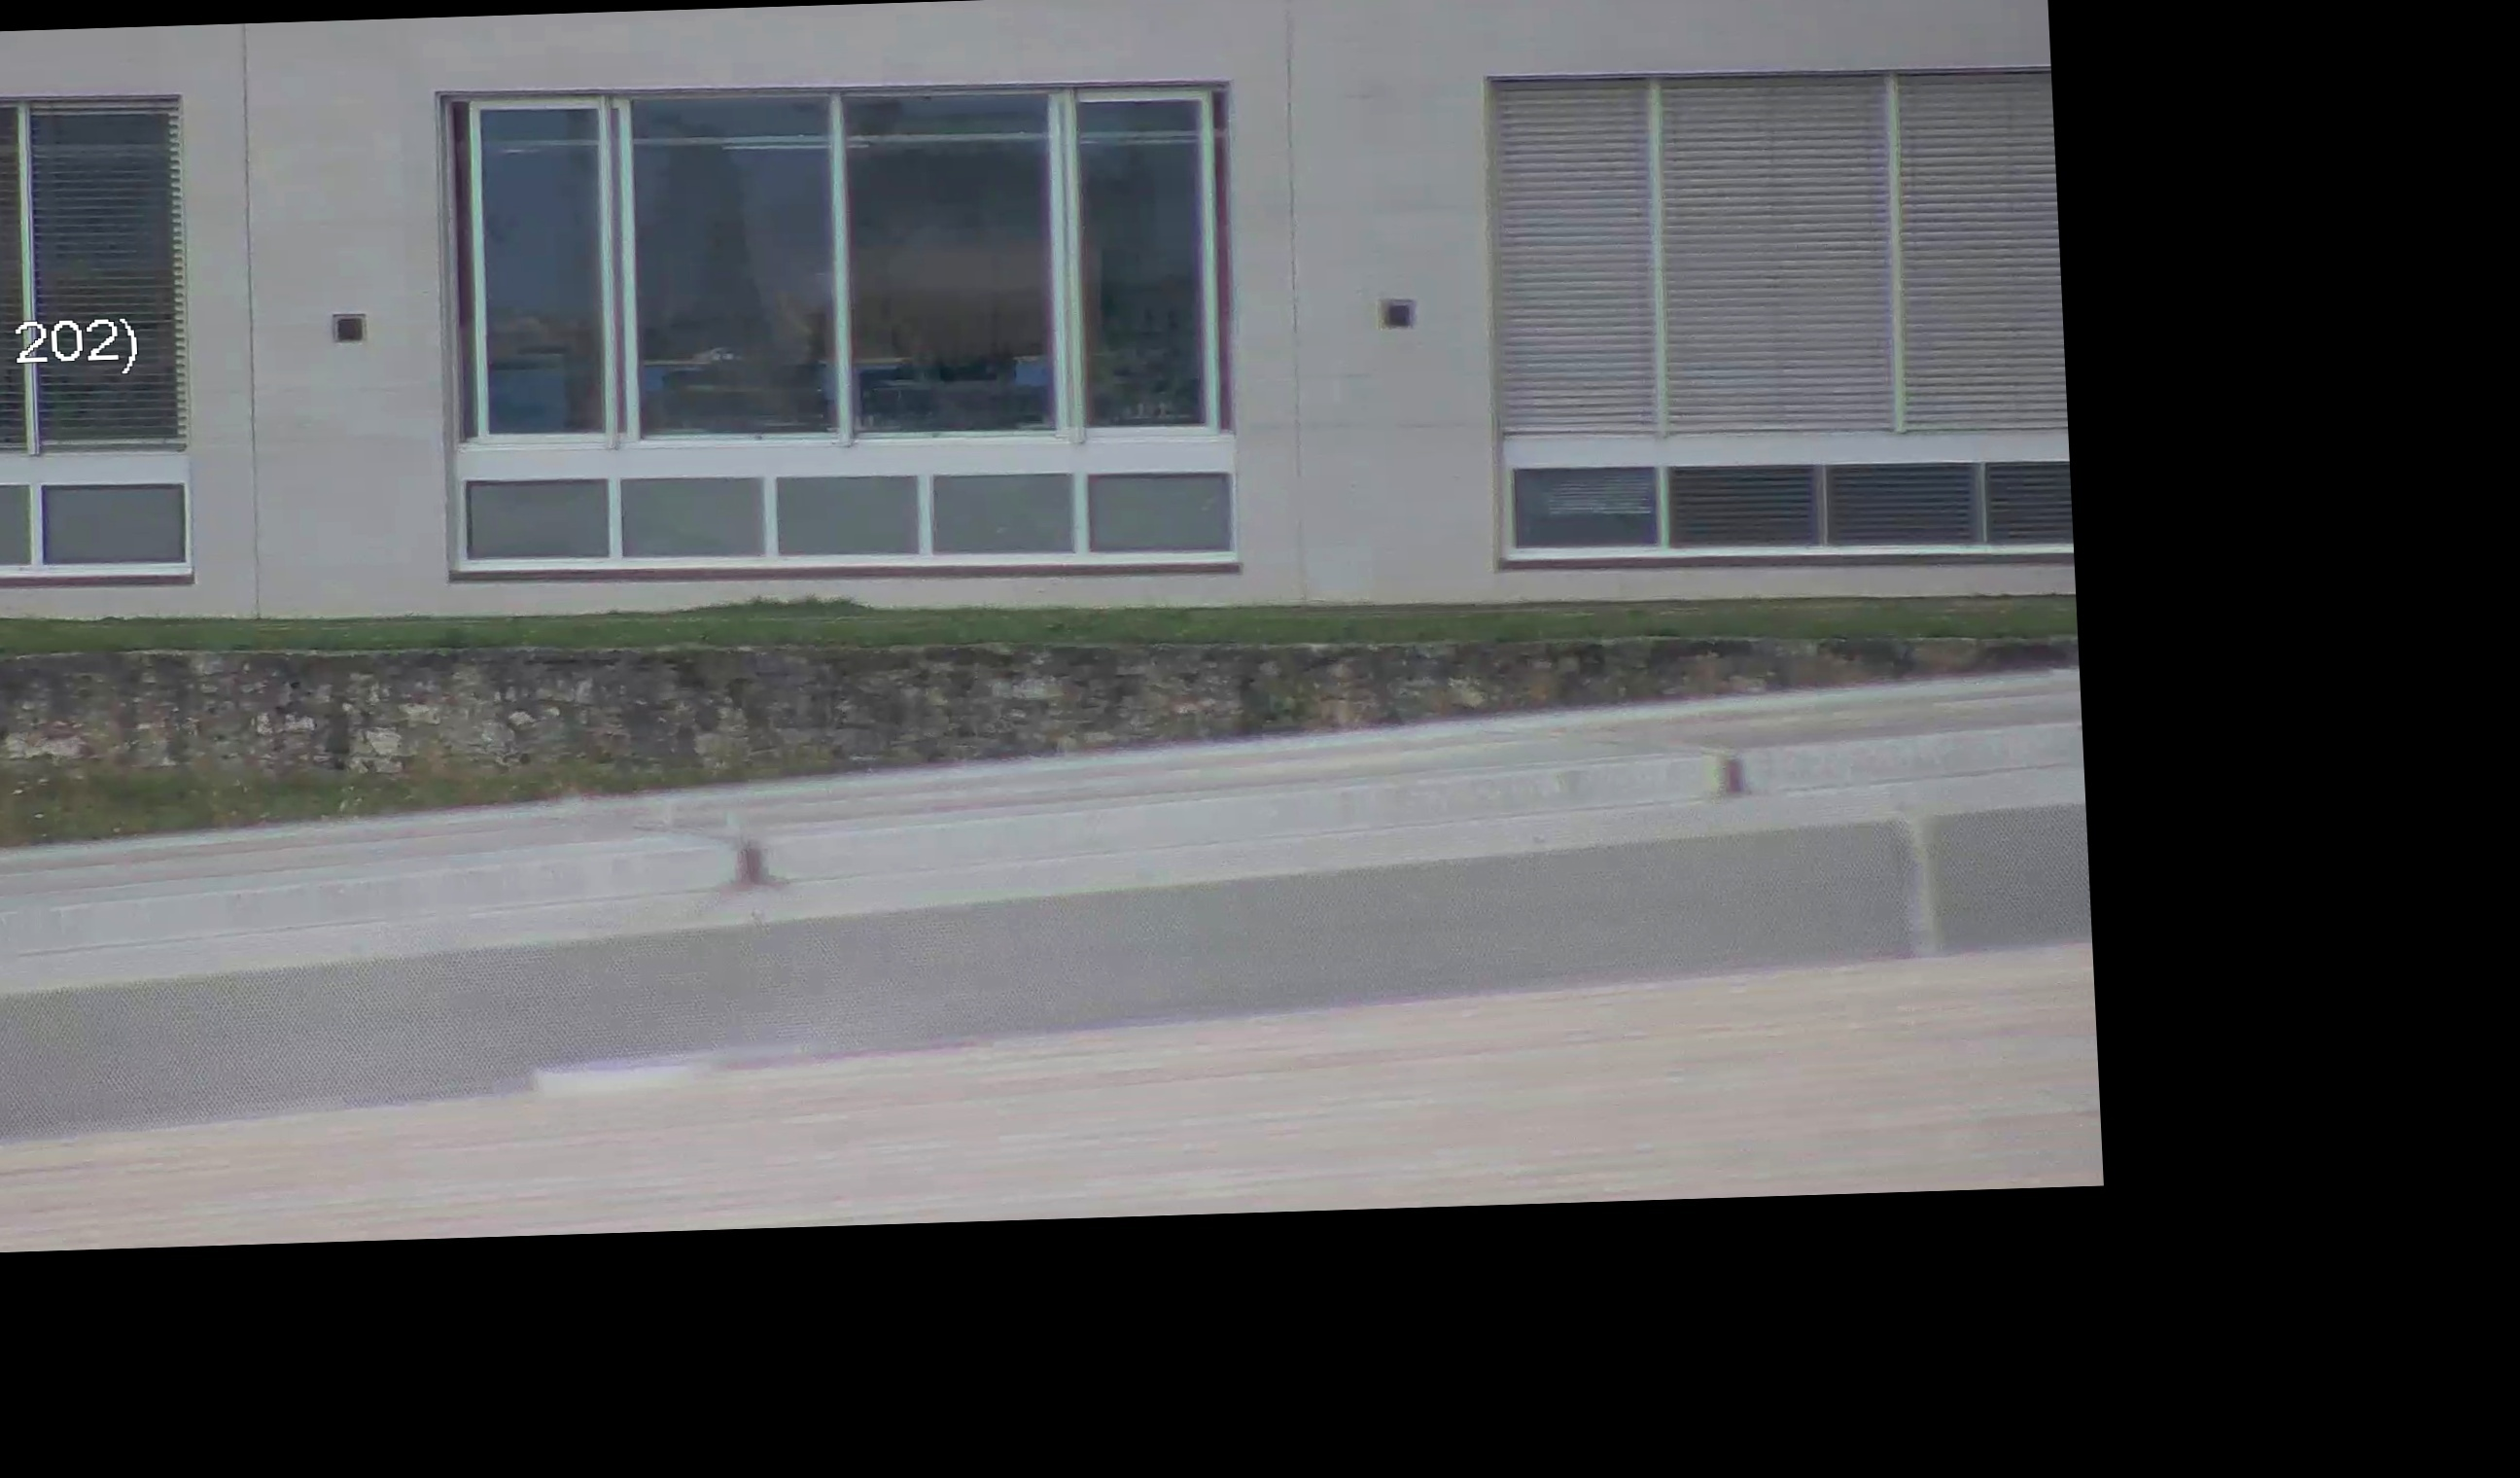Other: (717, 816, 793, 901)
